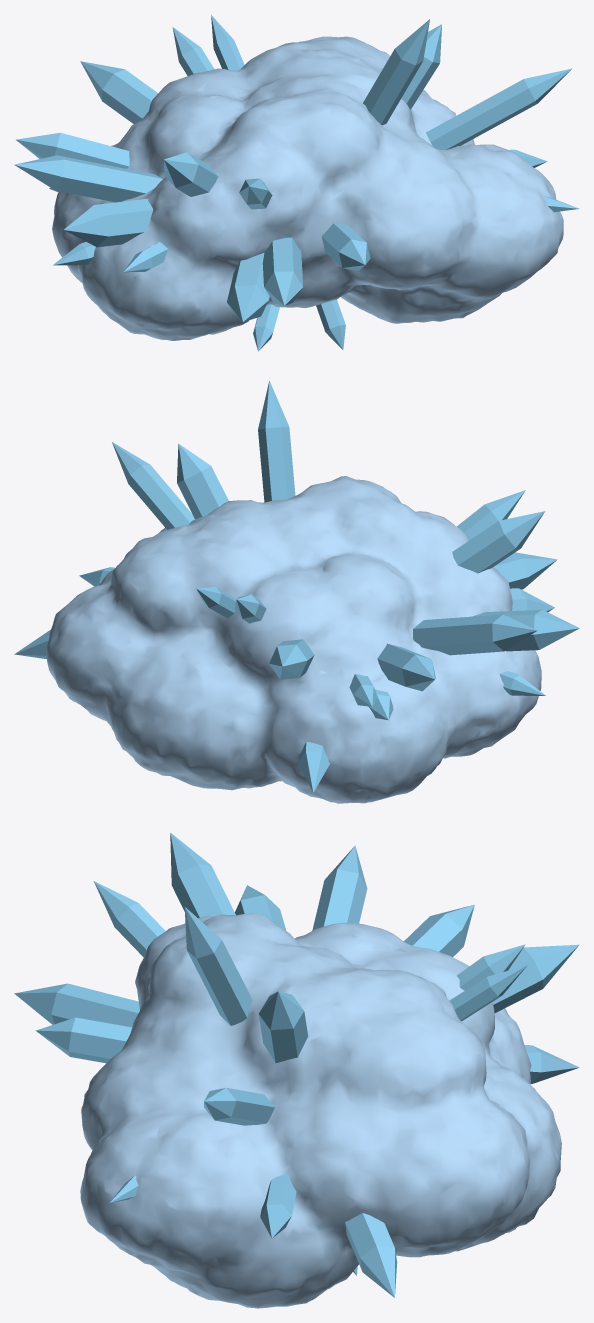
The model's file is ice_crystal.obj.
3 renders of one model, top to bottom at view 1: azimuth 30°, elevation 25°; view 2: azimuth 150°, elevation 25°; view 3: azimuth 270°, elevation 25°, orthographic. The views are drawn at different scales.
Parts seen in each view (by area): view 1: ice_crystal; view 2: ice_crystal; view 3: ice_crystal.
Boxes of the visible parts, left/top/right/bottom form: ice_crystal: left=14, top=15, right=579, bottom=351; ice_crystal: left=14, top=380, right=579, bottom=803; ice_crystal: left=14, top=832, right=579, bottom=1308.
Bounding box in the file's own units: 900 × 538 × 735.
Materials: 1 (1 with a texture image).
